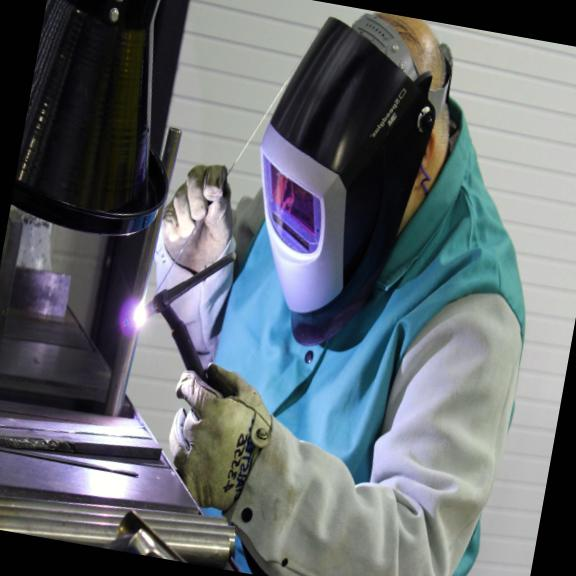no_safety_vest: (161, 112, 558, 574)
